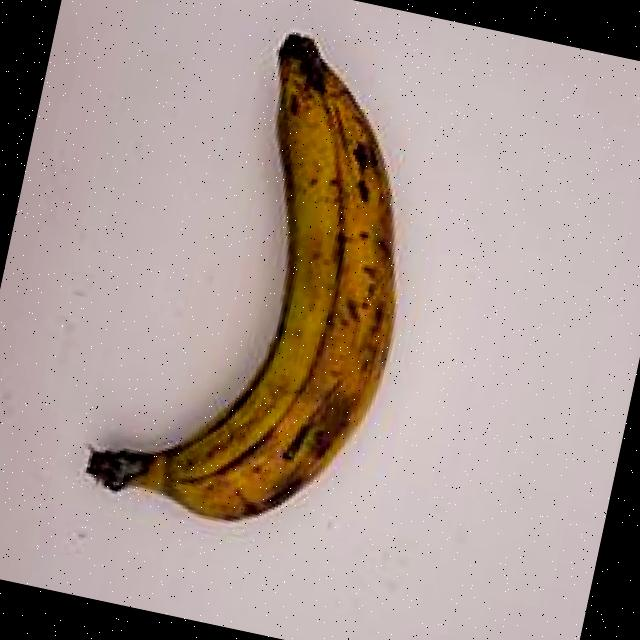Overripe: (40, 0, 464, 595)
